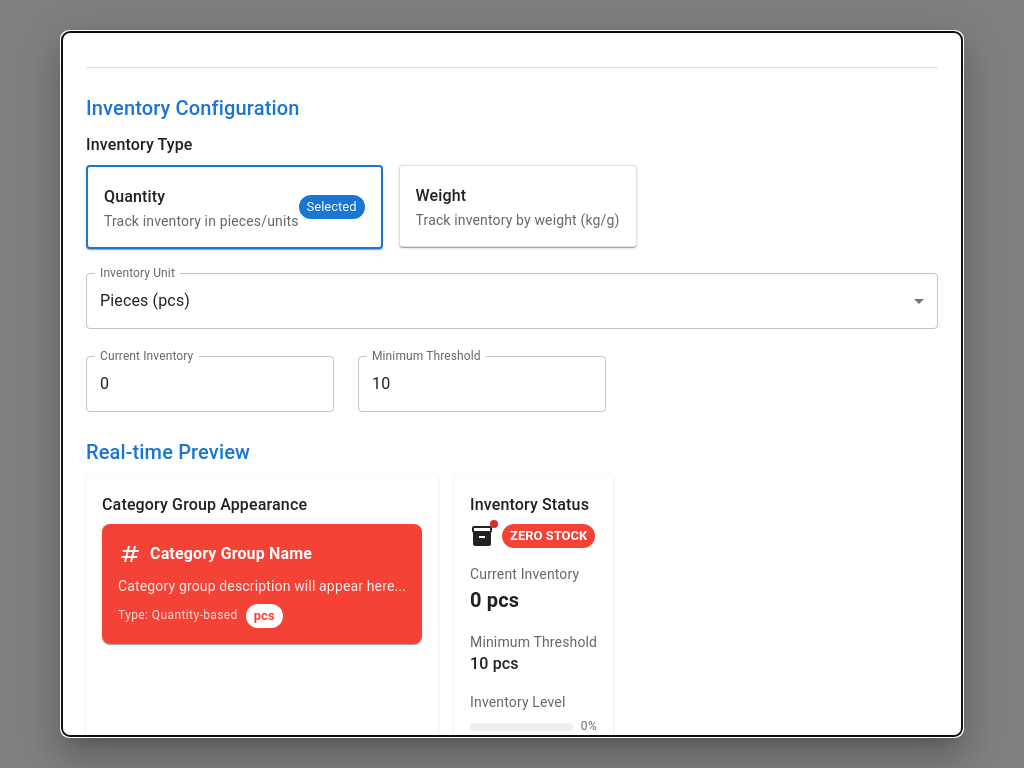
Test: CategoryGroupFormWithInventory - Real-time Preview › should display configuration summary with correct values
This screenshot has width=1024, height=768.
(page scrolled)
Replace the text in the number field labelled "Current Inventory" with "100": (210, 384) [86,356,334,412]
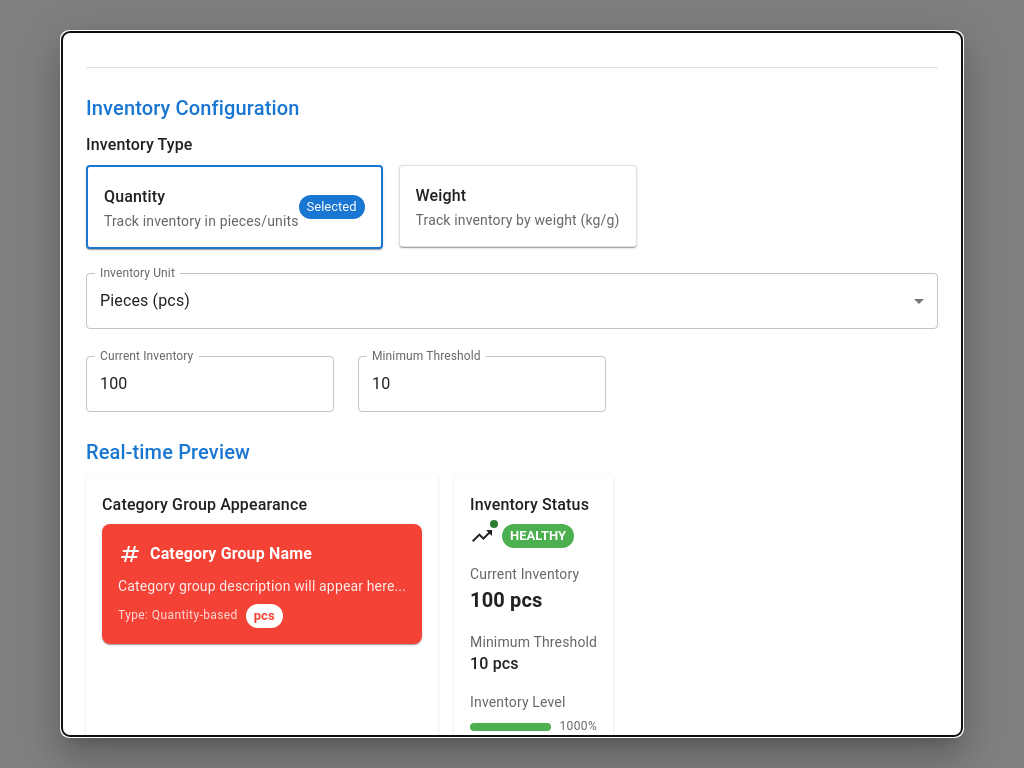
Replace the text in the number field labelled "Minimum Threshold" with "20": (482, 384) [358,356,606,412]
(page scrolled)
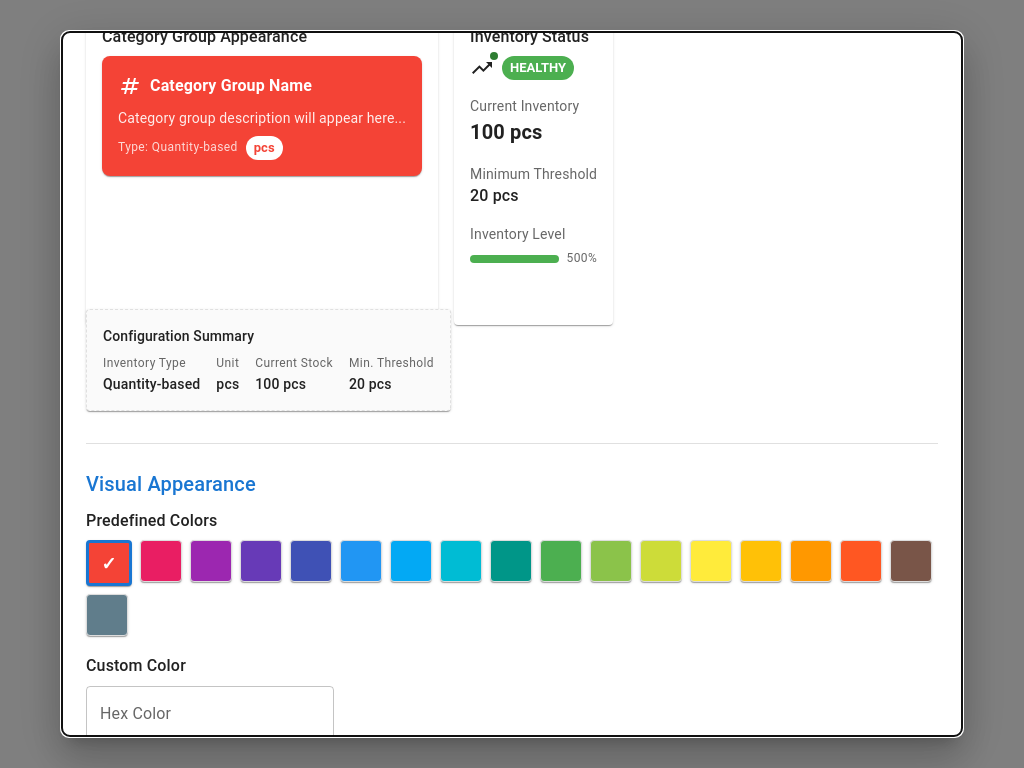
Expected: the number of headings "100 pcs" is 2, [470,120,542,144]; [255,376,306,392]
Expected: the text "20 pcs" is shown 2 times, [470,186,519,205]; [349,376,392,392]
Expected: the text "Quantity-based" is shown, [103,374,200,394]
